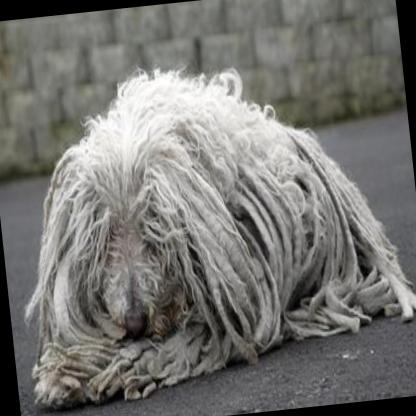komondor: (0, 36, 416, 412)
